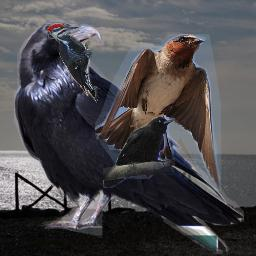Crow: (14, 20, 244, 254), (103, 117, 175, 188)
Swallow: (95, 34, 221, 191)
Woodpecker: (46, 23, 98, 104)
